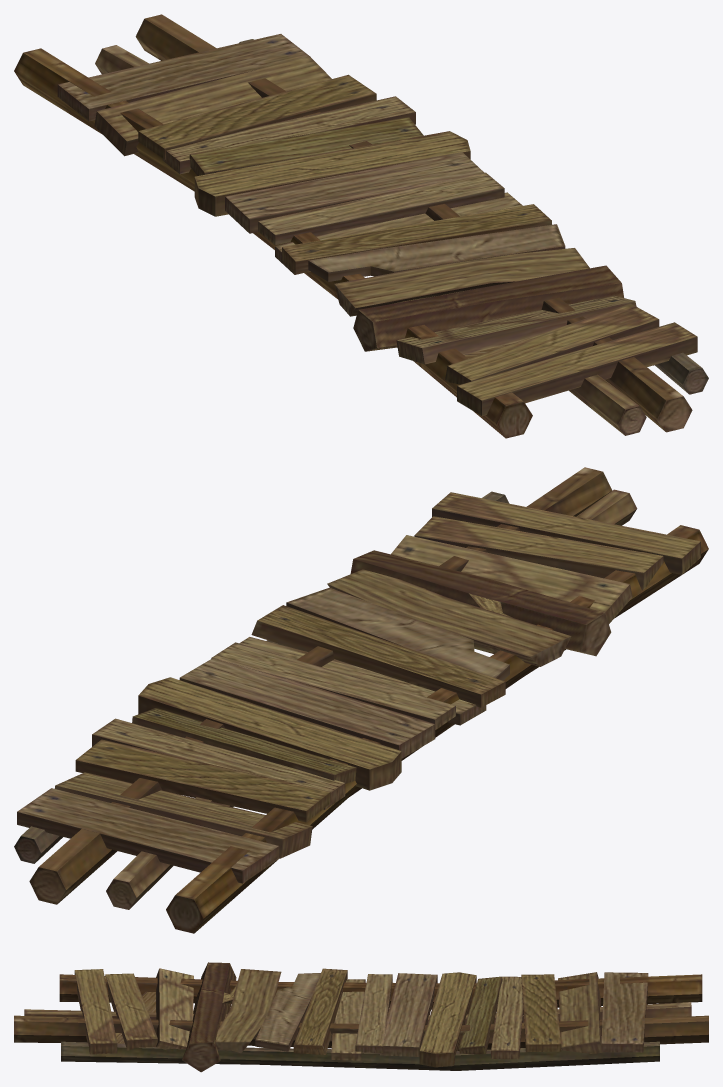
Rendered from muqiao_1.fbx.
3 renders of one model, top to bottom at view 1: azimuth 30°, elevation 25°; view 2: azimuth 150°, elevation 25°; view 3: azimuth 270°, elevation 25°, orthographic. The views are drawn at different scales.
Visible parts, largest first — view 1: muqiao1; view 2: muqiao1; view 3: muqiao1.
Boxes of the visible parts, x1,y1,x2,y2 form: muqiao1: [14, 14, 708, 438]; muqiao1: [14, 467, 708, 933]; muqiao1: [14, 962, 708, 1072].
Bounding box in the file's own units: 458 × 82.85 × 1554.
Materials: 1 (1 with a texture image).
